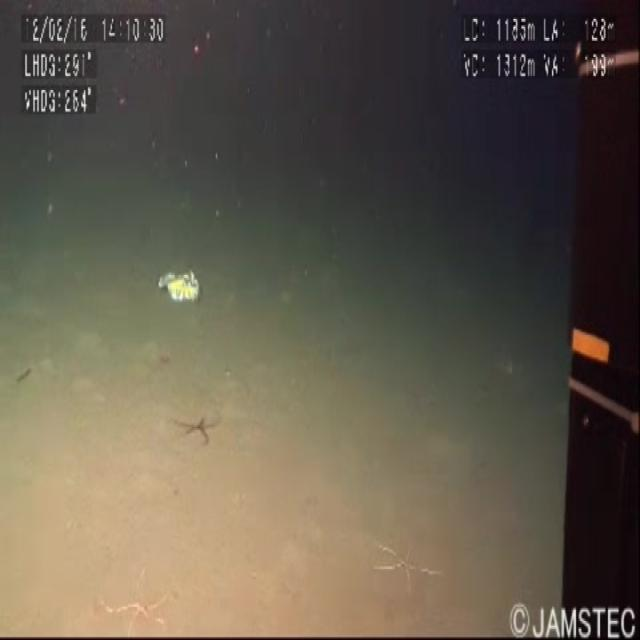Litter: (153, 253, 210, 330)
